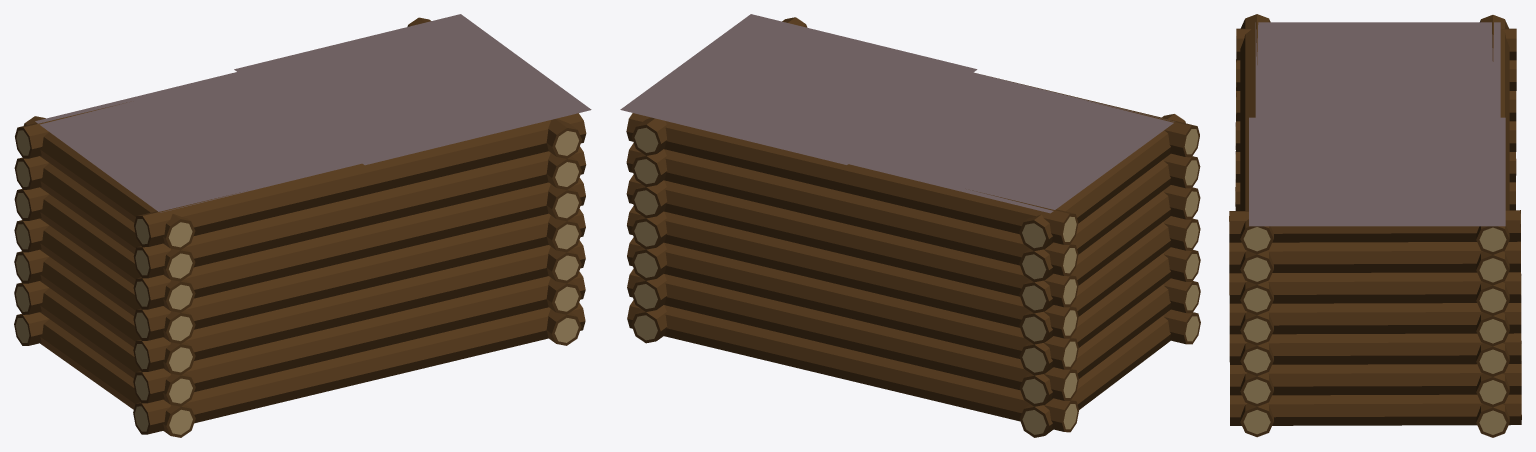
Rendered from hütte.fbx.
The picture shows the model from 3 angles, left to right: view 1: azimuth 30°, elevation 25°; view 2: azimuth 150°, elevation 25°; view 3: azimuth 270°, elevation 25°; orthographic projection. The views are drawn at different scales.
Parts seen in each view (by area): view 1: Cylinder, Plane, Cylinder.004, Plane.001, Cylinder.002, Cylinder.003; view 2: Cylinder.003, Plane, Cylinder.004, Plane.001, Cylinder.002, Cylinder; view 3: Cylinder.002, Plane, Plane.001, Cylinder, Cylinder.003, Cylinder.004.
Boxes of the visible parts, <box> form: Cylinder: <box>133,113,586,434</box>; Plane: <box>234,14,591,165</box>; Cylinder.004: <box>23,116,195,437</box>; Plane.001: <box>35,72,361,212</box>; Cylinder.002: <box>407,17,581,345</box>; Cylinder.003: <box>14,102,126,345</box>; Cylinder.003: <box>626,113,1078,432</box>; Plane: <box>620,14,977,164</box>; Cylinder.004: <box>1019,114,1185,437</box>; Plane.001: <box>848,72,1174,213</box>; Cylinder.002: <box>631,17,807,343</box>; Cylinder: <box>984,75,1200,344</box>; Cylinder.002: <box>1229,210,1521,425</box>; Plane: <box>1249,117,1505,226</box>; Plane.001: <box>1255,22,1500,117</box>; Cylinder: <box>1240,14,1273,437</box>; Cylinder.003: <box>1476,15,1509,437</box>; Cylinder.004: <box>1235,28,1516,210</box>.
Size of the model in its own units: 775 by 369 by 450.
